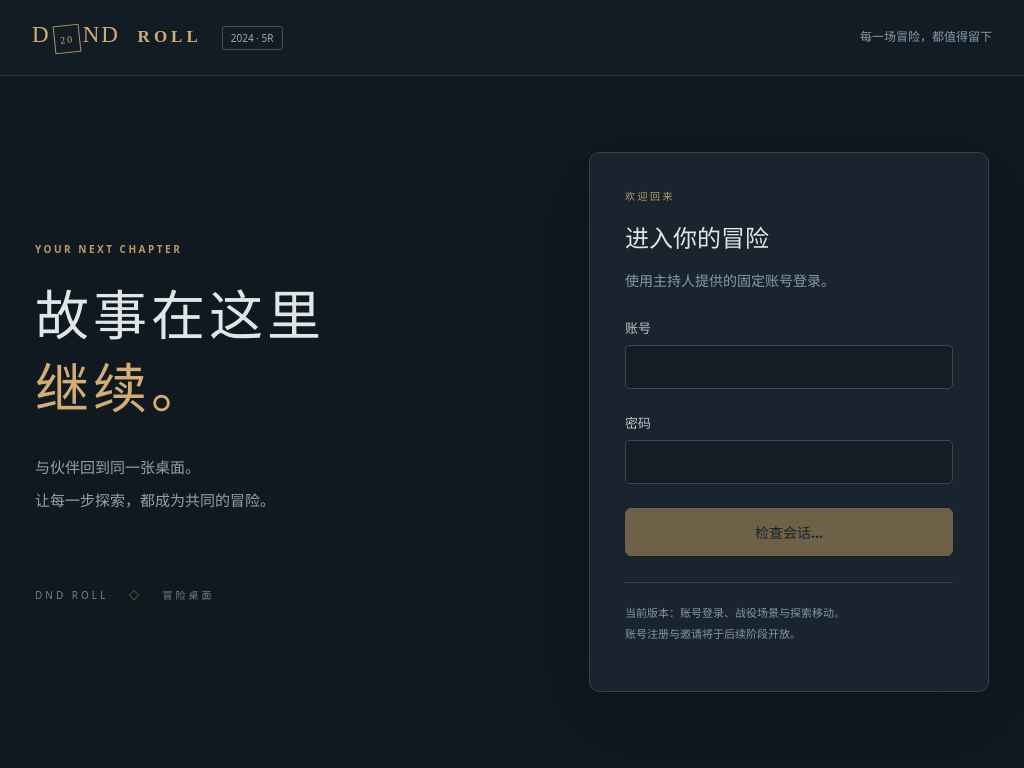
it: tabletop interface › shows a login error and does not enter a fake local campaign
Type "player" into the field labelled "账号". click: (789,367)
box: top-left (625, 345), bottom-right (953, 389)
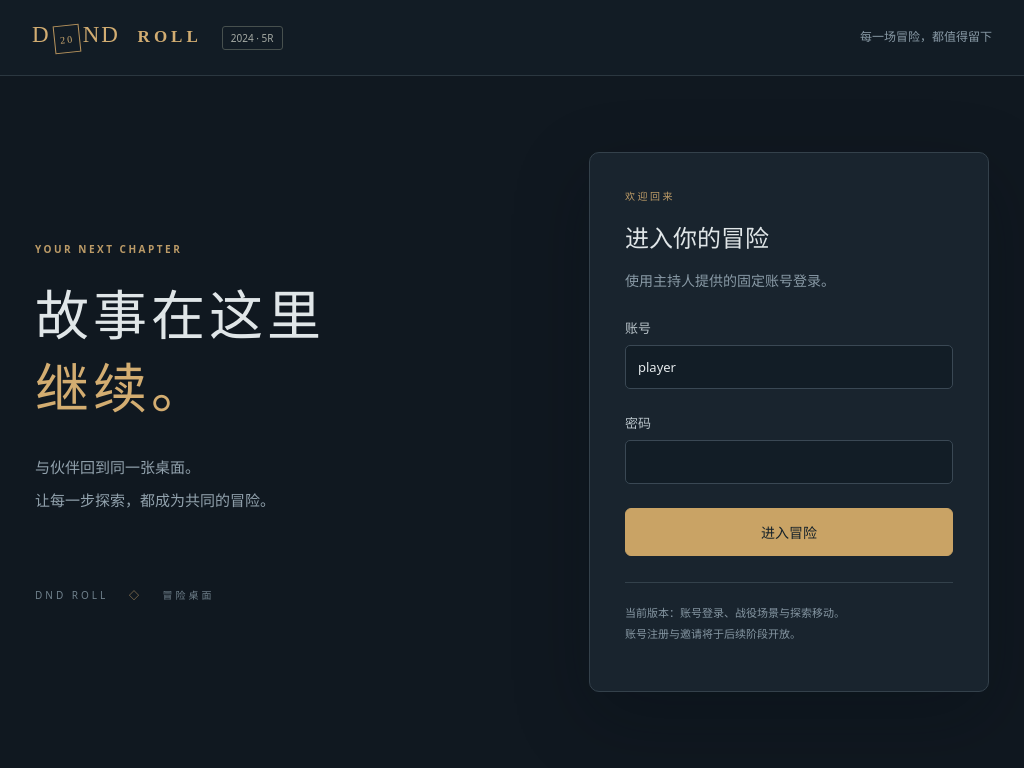
Type "runtime-password" into the password field labelled "密码". click: (789,462)
box: top-left (625, 440), bottom-right (953, 484)
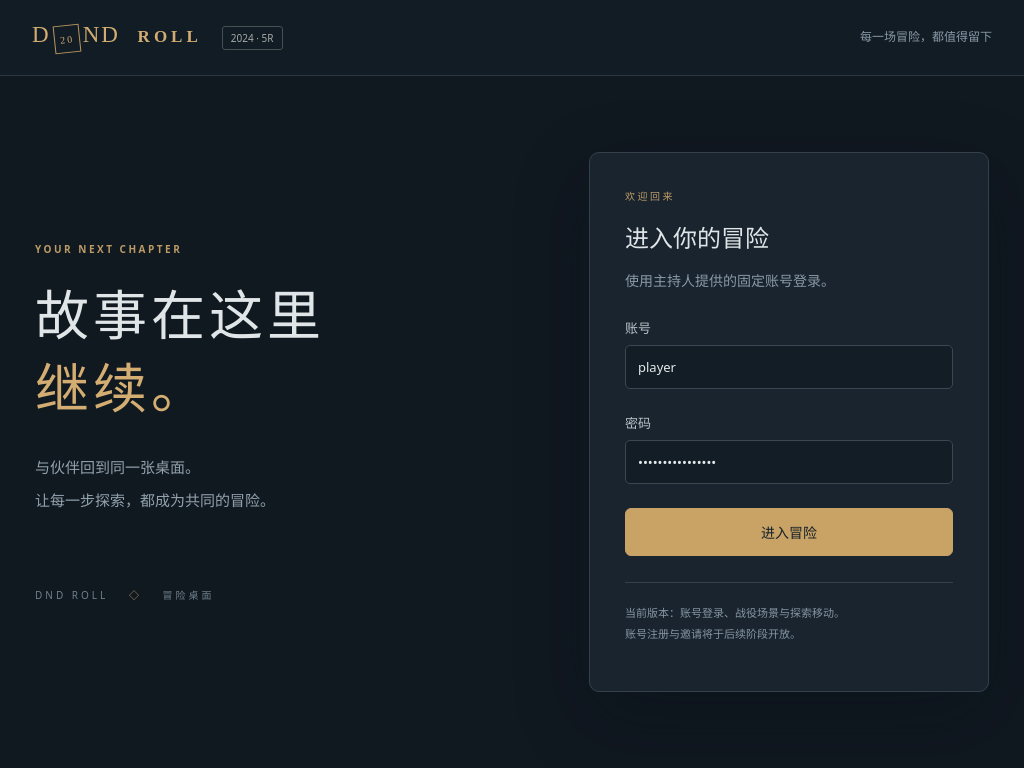
Click the button "进入冒险". click: (789,532)
box: top-left (625, 508), bottom-right (953, 556)
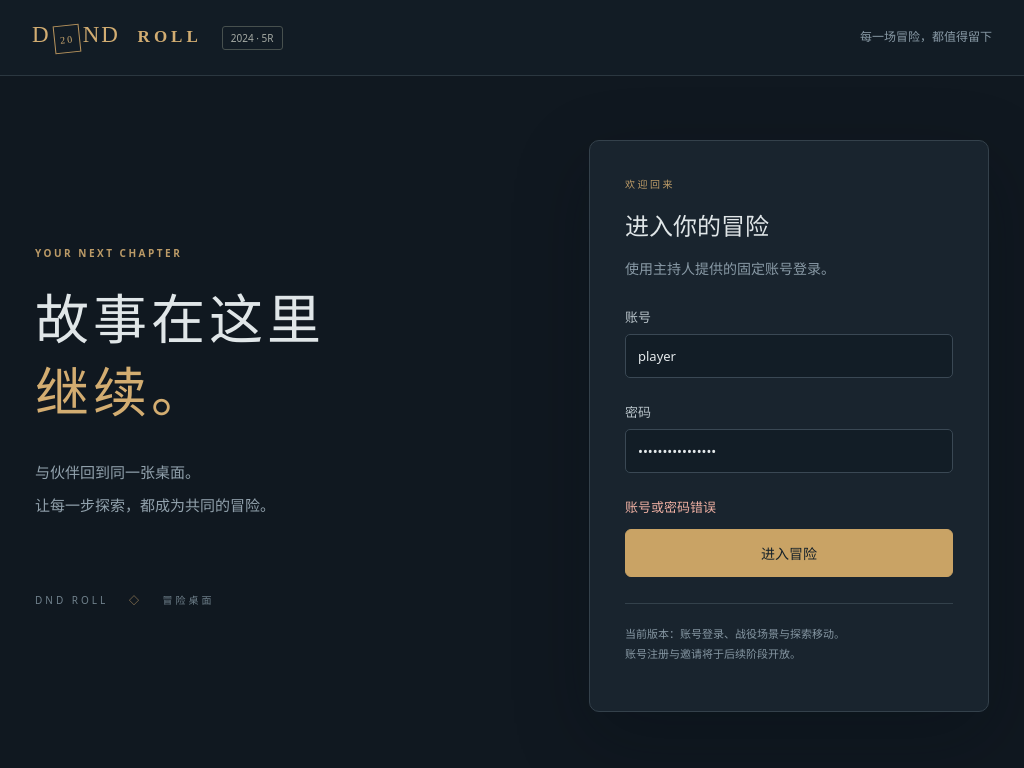
Now the message reads "账号或密码错误", box top-left (625, 498), bottom-right (716, 516)
